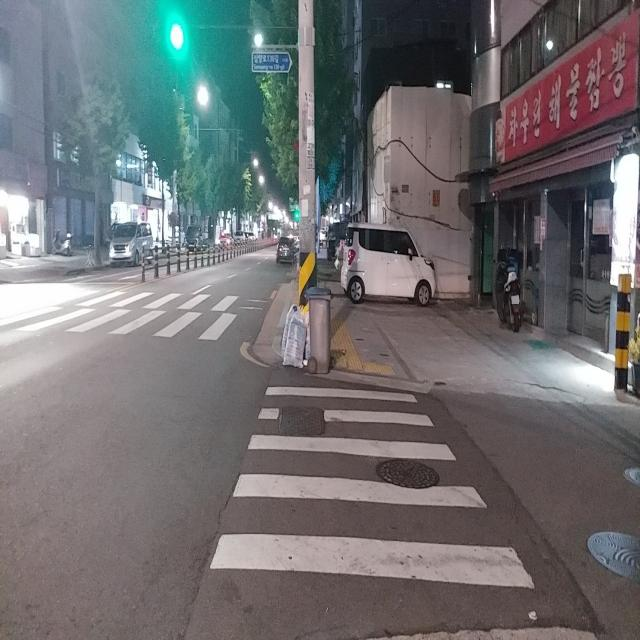횡단보도: (207, 382, 537, 596), (1, 278, 260, 354)
